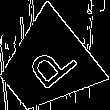P_SW: (15, 36, 77, 97)
